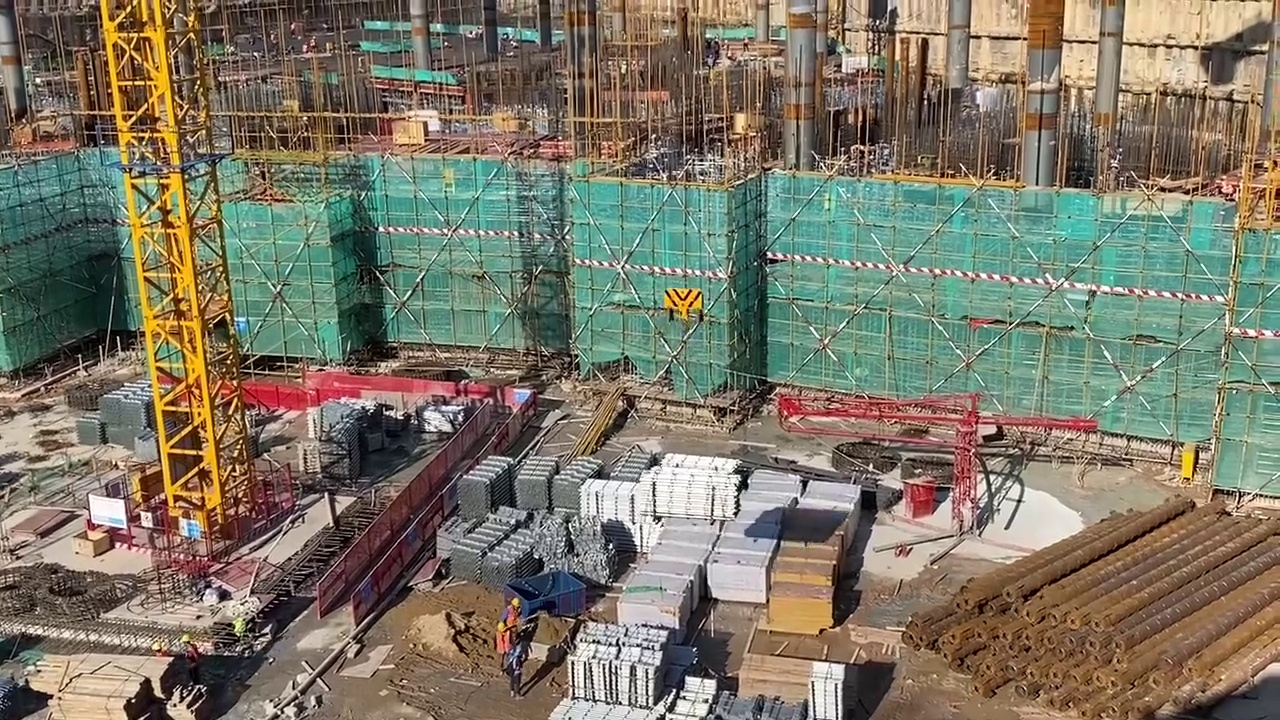board: (763, 524, 847, 630)
fence: (295, 367, 535, 423)
hook: (663, 285, 703, 321)
hopper: (516, 574, 587, 617)
person: (506, 636, 529, 702), (501, 596, 528, 650), (493, 619, 514, 676)
rebar: (893, 494, 1277, 720)
scaffold: (570, 625, 667, 703), (652, 453, 739, 519), (452, 519, 531, 586), (538, 518, 617, 581), (454, 454, 511, 514), (579, 476, 646, 523), (99, 386, 151, 438), (549, 453, 582, 511), (517, 452, 549, 511), (812, 665, 846, 720), (330, 421, 359, 481), (78, 410, 102, 446)
wood: (40, 651, 186, 720)
